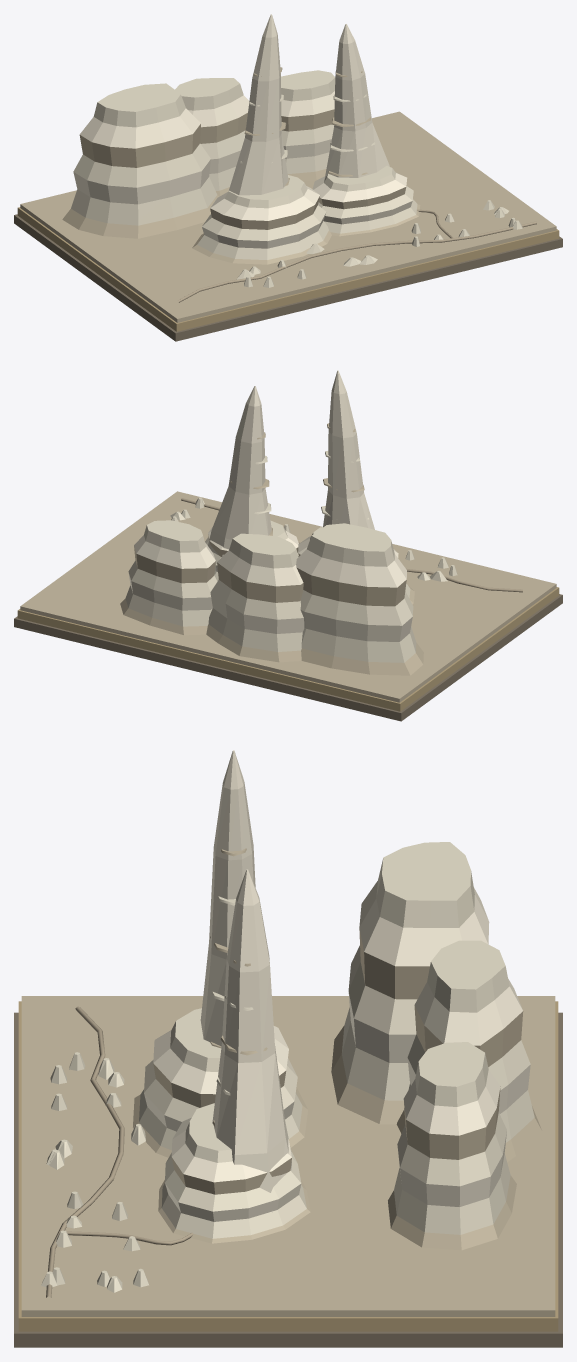
File: bozzhyra.glb
The picture shows the model from 3 angles, top to bottom: view 1: azimuth 30°, elevation 25°; view 2: azimuth 150°, elevation 25°; view 3: azimuth 270°, elevation 25°; orthographic projection. The views are drawn at different scales.
Visible parts, largest first — view 1: Weathered chalk strata, White chalk, Sunlit chalk, Foundation edging, Steppe earth, Desert drainage lines; view 2: Weathered chalk strata, Sunlit chalk, White chalk, Foundation edging, Steppe earth, Desert drainage lines; view 3: Weathered chalk strata, White chalk, Sunlit chalk, Foundation edging, Steppe earth, Desert drainage lines.
Part boxes in pixels (bbox=[...]): Weathered chalk strata: bbox=[20, 67, 556, 322]; White chalk: bbox=[71, 70, 522, 287]; Sunlit chalk: bbox=[73, 14, 412, 248]; Foundation edging: bbox=[14, 214, 562, 341]; Steppe earth: bbox=[17, 207, 559, 331]; Desert drainage lines: bbox=[178, 209, 536, 302]; Weathered chalk strata: bbox=[20, 423, 556, 702]; Sunlit chalk: bbox=[128, 370, 412, 641]; White chalk: bbox=[125, 451, 457, 662]; Foundation edging: bbox=[14, 594, 562, 721]; Steppe earth: bbox=[17, 587, 559, 711]; Desert drainage lines: bbox=[181, 498, 522, 592]; Weathered chalk strata: bbox=[21, 848, 555, 1316]; White chalk: bbox=[41, 842, 534, 1292]; Sunlit chalk: bbox=[144, 750, 530, 1221]; Foundation edging: bbox=[14, 1012, 562, 1347]; Steppe earth: bbox=[18, 1001, 558, 1331]; Desert drainage lines: bbox=[46, 1006, 193, 1297].
Bounding box in the file's own units: 8.3 × 4.93 × 6.
